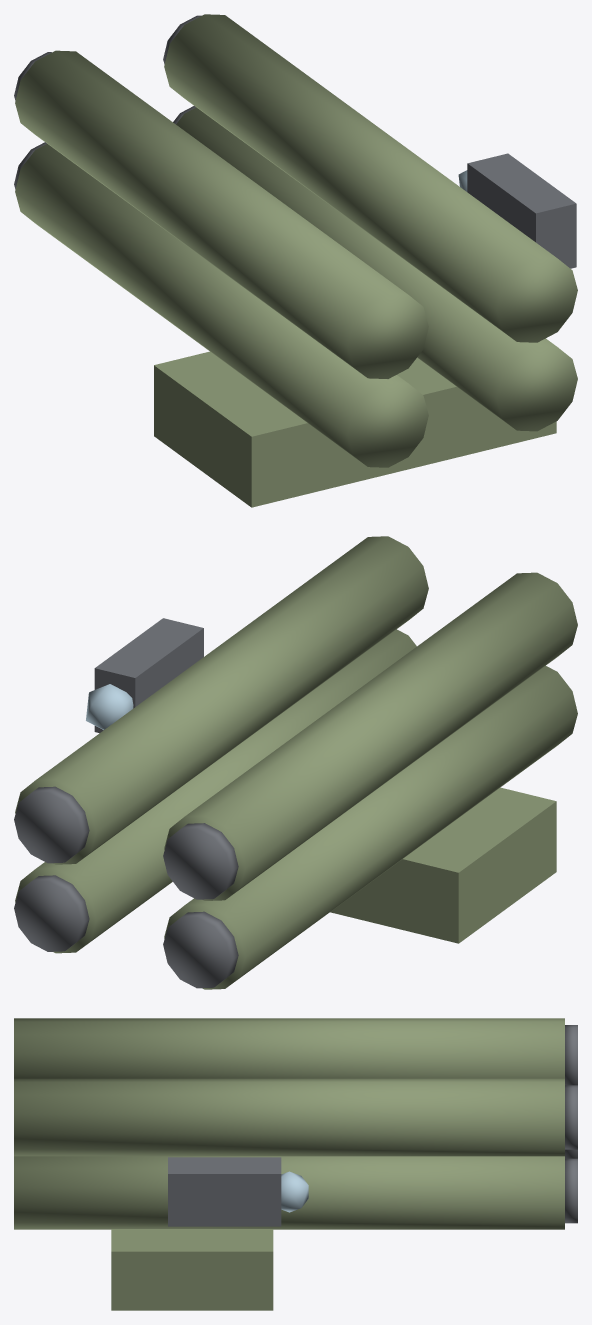
File: aa_launcher.gltf
The picture shows the model from 3 angles, top to bottom: view 1: azimuth 30°, elevation 25°; view 2: azimuth 150°, elevation 25°; view 3: azimuth 270°, elevation 25°; orthographic projection. The views are drawn at different scales.
Parts seen in each view (by area): view 1: aa_launcher; view 2: aa_launcher; view 3: aa_launcher.
Boxes of the visible parts, <box> form: aa_launcher: <box>14,14,577,507</box>; aa_launcher: <box>14,536,577,989</box>; aa_launcher: <box>14,1018,577,1310</box>.
Bounding box in the file's own units: 1.06 × 0.67 × 1.74.
